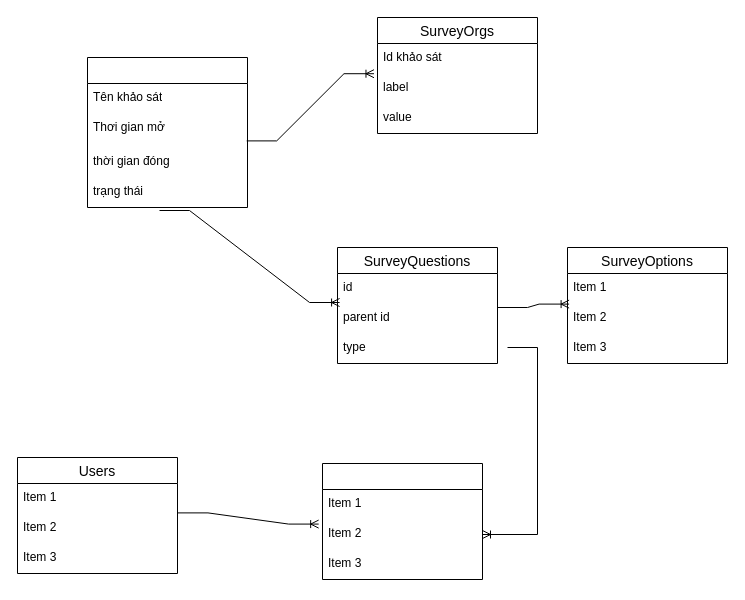
Image size: 745x600. Some labels were removed from this diagram. The box of each missing label's shape, as (x1, y1, x2, y2) in pixels:
Survey: (86, 56, 248, 208)
SẻveyAnser: (322, 462, 482, 580)
